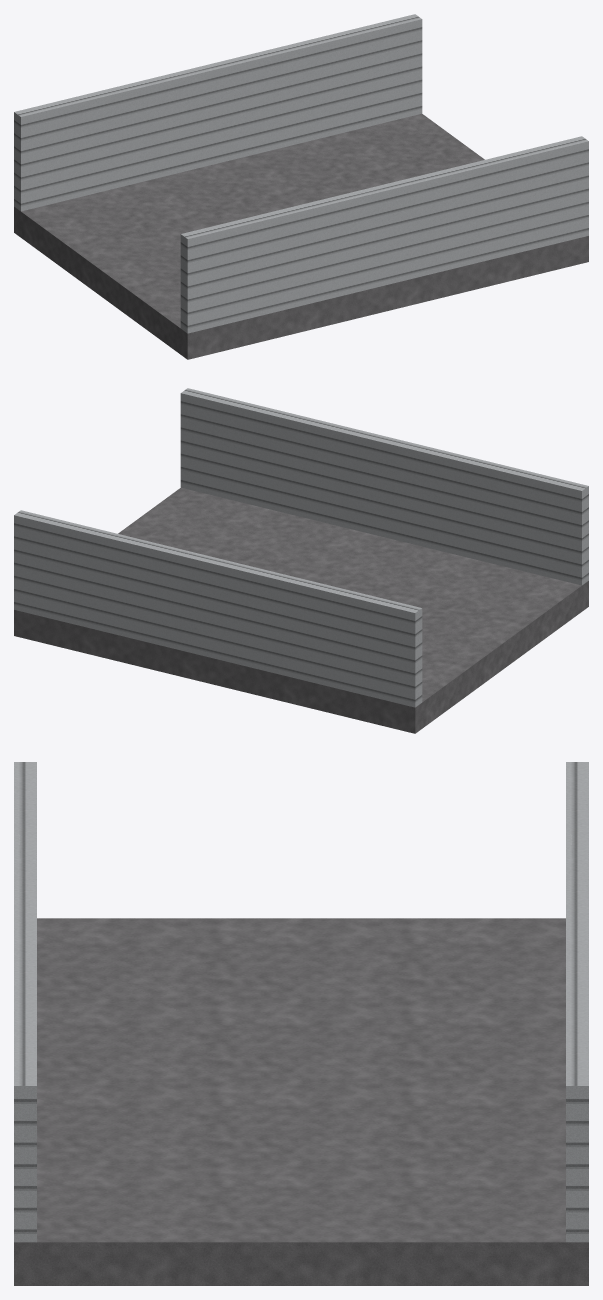
Rendered from bridge_minor_spur.glb.
3 views of the same model, one above another, from view 1: azimuth 30°, elevation 25°; view 2: azimuth 150°, elevation 25°; view 3: azimuth 270°, elevation 25° (orthographic). The views are drawn at different scales.
Visible parts, largest first — view 1: bridge_minor_spur-col; view 2: bridge_minor_spur-col; view 3: bridge_minor_spur-col.
Part boxes in pixels (x1,y1,x2,y2): bridge_minor_spur-col: [14, 14, 588, 359]; bridge_minor_spur-col: [14, 388, 588, 733]; bridge_minor_spur-col: [14, 762, 588, 1285].
Bounding box in the file's own units: 4 × 1.15 × 3.
2 materials, 2 textured.
